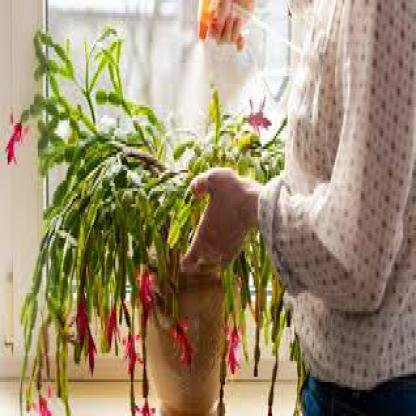Aglonema: (57, 36, 280, 335)
